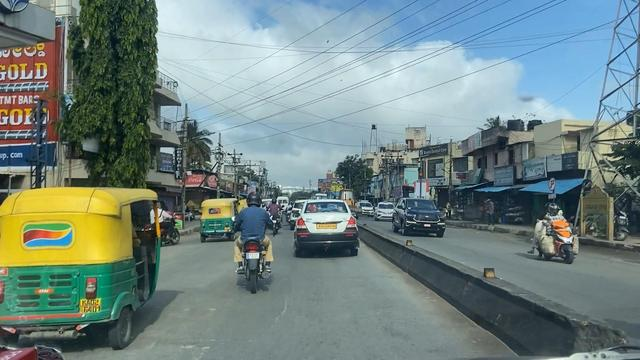LMV: (6, 193, 162, 343), (294, 199, 359, 260), (241, 187, 271, 294)
RoadDamages: (188, 299, 231, 360), (277, 288, 301, 343)
